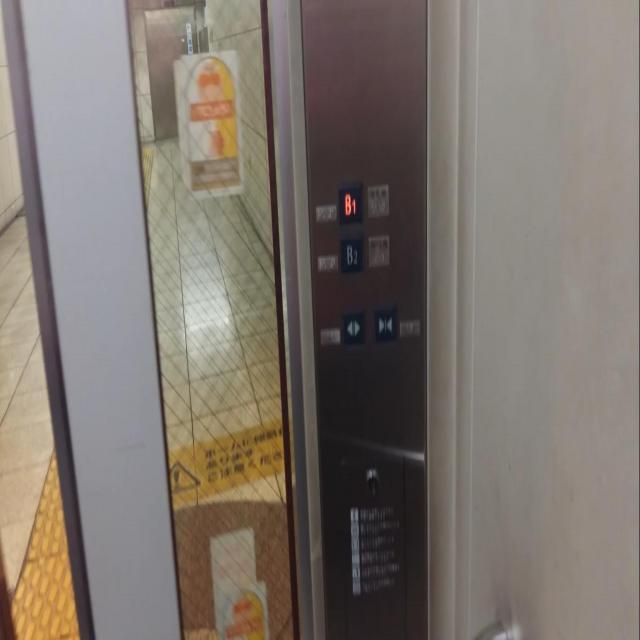B1: (336, 179, 365, 225)
B2: (337, 234, 364, 274)
close: (370, 304, 398, 344)
keyhole: (361, 467, 383, 493)
open: (340, 308, 367, 347)
